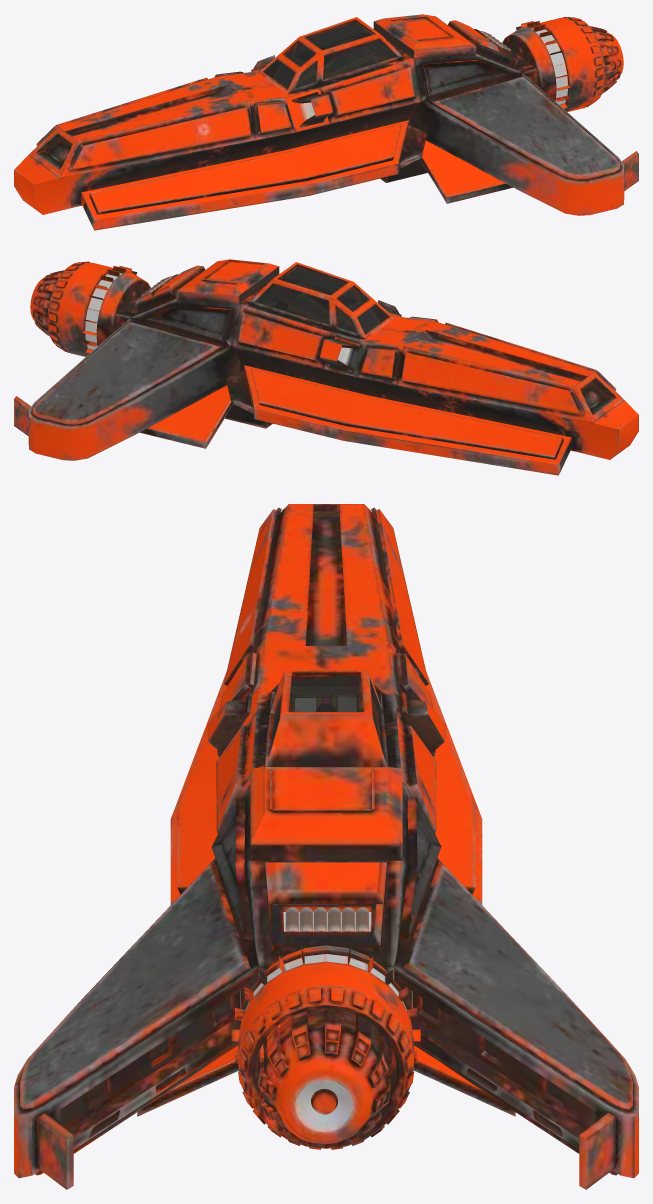
File: spaceship.glb
The picture shows the model from 3 angles, top to bottom: view 1: azimuth 30°, elevation 25°; view 2: azimuth 150°, elevation 25°; view 3: azimuth 270°, elevation 25°; orthographic projection. The views are drawn at different scales.
Parts seen in each view (by area): view 1: Cube.001, Cube.001_RPanel.003, Cylinder.002, Cube.001_RPanel.003_RExtr, Cube.005, Cube.003, Cylinder.003, Cube.001_RPanel.003_RExtr.001, Cube.002; view 2: Cube.001, Cube.001_RPanel.001, Cylinder.002, Cube.001_RPanel.003_RExtr.001, Cube.005, Cube.003, Cylinder.003, Cube.001_RPanel.003_RExtr, Cube.002; view 3: Cube.001, Cylinder.003, Cylinder.002, Cube.001_RPanel.003, Cube.001_RPanel.001, Cube.003, Cube.001_RPanel.003_RExtr, Cube.001_RPanel.003_RExtr.001, Cylinder.004, Cube.005.
Boxes of the visible parts, left/top/right/bottom form: Cube.001: left=14, top=14, right=638, bottom=230; Cube.001_RPanel.003: left=61, top=54, right=522, bottom=177; Cylinder.002: left=502, top=17, right=605, bottom=111; Cube.001_RPanel.003_RExtr: left=69, top=92, right=325, bottom=170; Cube.005: left=274, top=38, right=395, bottom=87; Cube.003: left=448, top=20, right=518, bottom=67; Cylinder.003: left=589, top=26, right=623, bottom=93; Cube.001_RPanel.003_RExtr.001: left=36, top=63, right=268, bottom=145; Cube.002: left=380, top=159, right=427, bottom=182; Cube.001: left=14, top=259, right=638, bottom=475; Cube.001_RPanel.001: left=130, top=299, right=591, bottom=422; Cylinder.002: left=47, top=261, right=150, bottom=356; Cube.001_RPanel.003_RExtr.001: left=327, top=337, right=583, bottom=415; Cube.005: left=257, top=283, right=379, bottom=332; Cube.003: left=134, top=265, right=205, bottom=312; Cylinder.003: left=30, top=270, right=63, bottom=336; Cube.001_RPanel.003_RExtr: left=384, top=308, right=616, bottom=390; Cube.002: left=225, top=404, right=273, bottom=428; Cube.001: left=14, top=504, right=638, bottom=1189; Cylinder.003: left=257, top=1008, right=392, bottom=1148; Cylinder.002: left=231, top=945, right=420, bottom=1149; Cube.001_RPanel.003: left=207, top=504, right=288, bottom=965; Cube.001_RPanel.001: left=364, top=504, right=445, bottom=965; Cube.003: left=265, top=862, right=386, bottom=955; Cube.001_RPanel.003_RExtr: left=217, top=507, right=281, bottom=756; Cube.001_RPanel.003_RExtr.001: left=371, top=507, right=435, bottom=756; Cylinder.004: left=285, top=907, right=368, bottom=931; Cube.005: left=273, top=687, right=376, bottom=739.
Size of the model in its own units: 18.93 by 5.01 by 9.24.
Materials: 2 (2 with a texture image).
